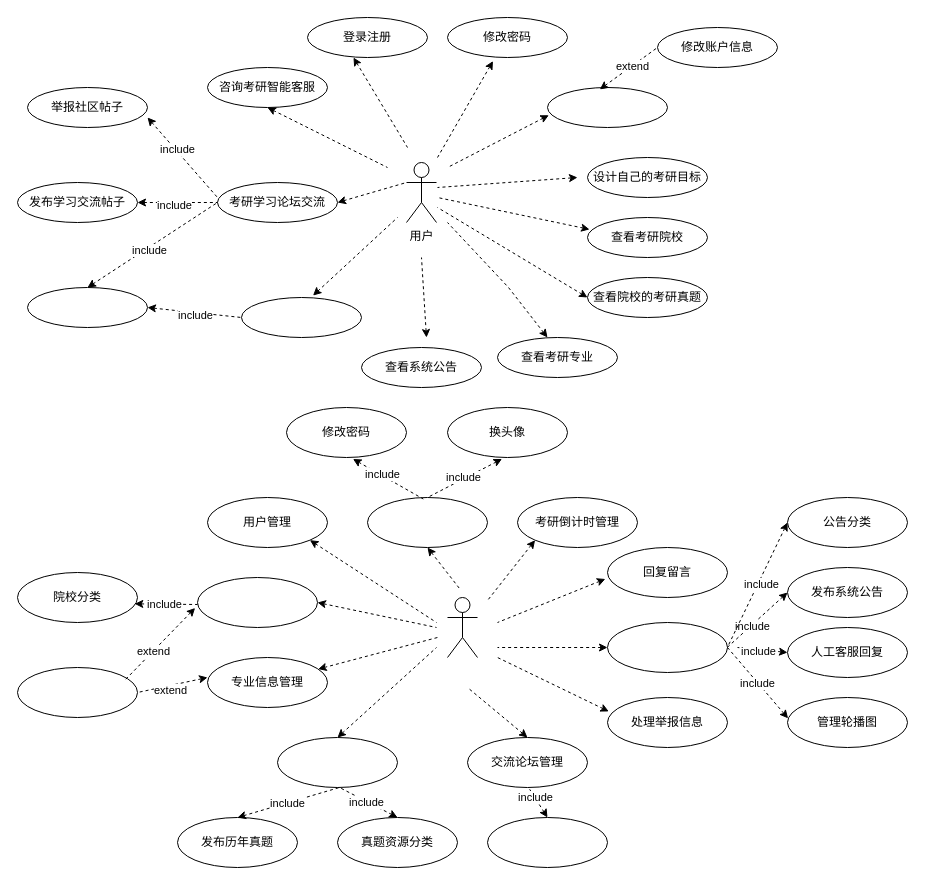
The diagram is 925 pixels wide and 885 high, and some of its shapes have lost their labels. Here are the shapes that lost their labels. From the top down, the centre of each, then its label:
the point at 607,107: 查看账号信息
the point at 87,307: 点赞、评论、收藏
the point at 301,317: 给平台官方留言反馈
the point at 427,522: 管理员个人中心
the point at 257,602: 院校管理
the point at 462,627: 后台管理员
the point at 667,647: 系统管理
the point at 77,692: 增删查改
the point at 337,762: 历年真题管理
the point at 547,842: 论坛分类
